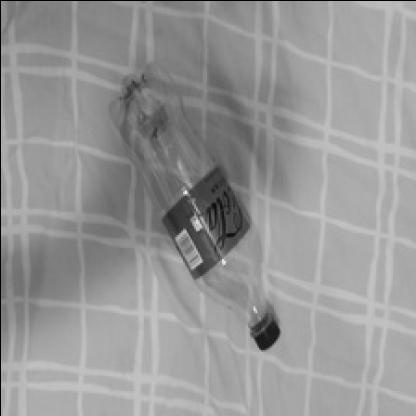plastic_bottles: (99, 66, 284, 350)
